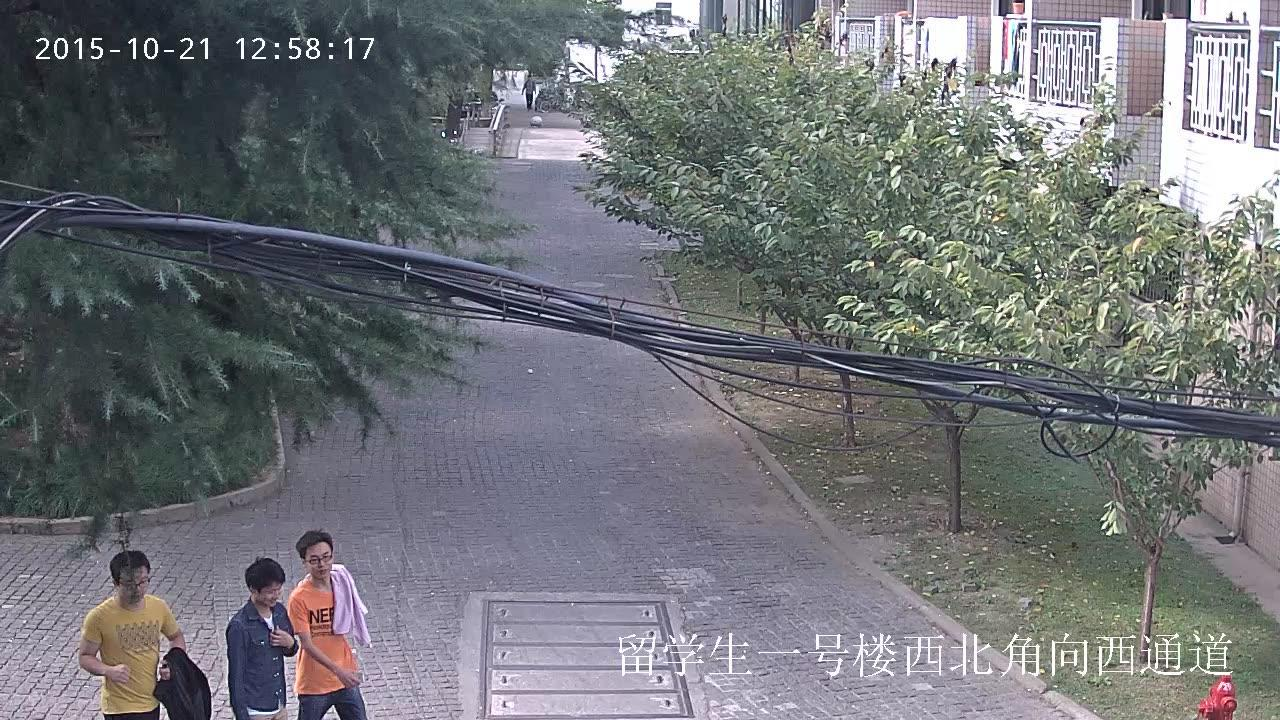person: (78, 549, 211, 720), (287, 530, 371, 720), (226, 556, 298, 720), (521, 74, 535, 111)
